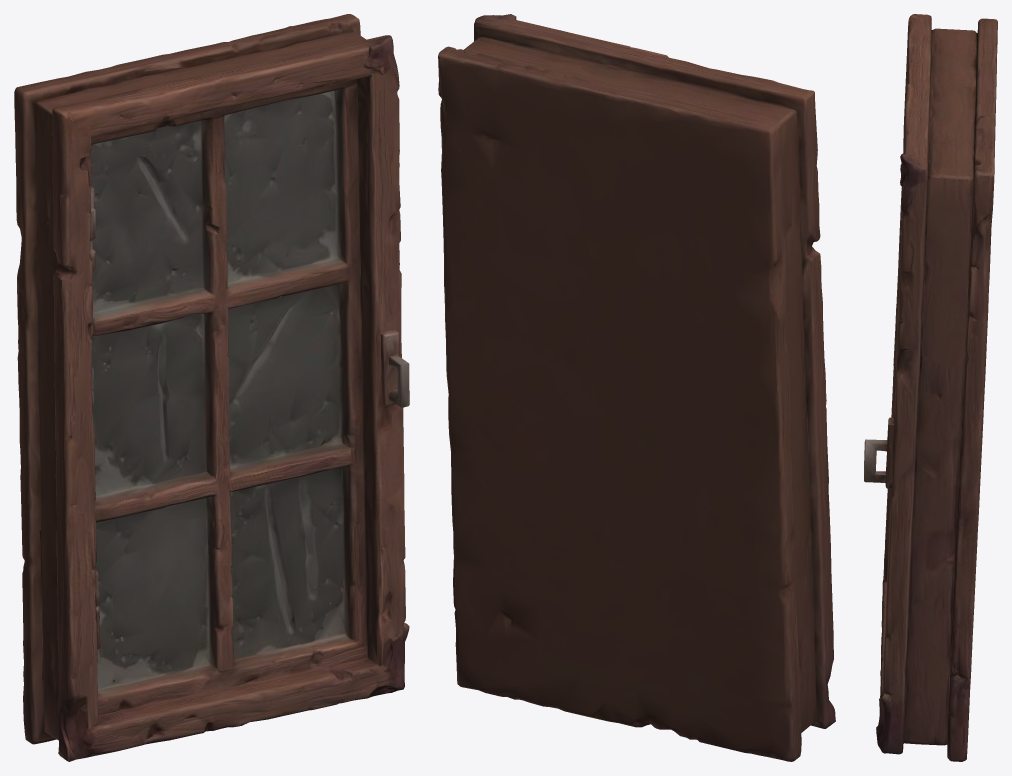
The model's file is window_basic_tseloe_idle.glb.
3 views of the same model, side by side, from view 1: azimuth 30°, elevation 25°; view 2: azimuth 150°, elevation 25°; view 3: azimuth 270°, elevation 25° (orthographic). The views are drawn at different scales.
Visible parts, largest first — view 1: tripo_node_cc51b0c7-5f73-4d6e-99b4-060140644a05; view 2: tripo_node_cc51b0c7-5f73-4d6e-99b4-060140644a05; view 3: tripo_node_cc51b0c7-5f73-4d6e-99b4-060140644a05.
Boxes of the visible parts, x1,y1,x2,y2 form: tripo_node_cc51b0c7-5f73-4d6e-99b4-060140644a05: (14, 14, 409, 761); tripo_node_cc51b0c7-5f73-4d6e-99b4-060140644a05: (438, 14, 835, 761); tripo_node_cc51b0c7-5f73-4d6e-99b4-060140644a05: (864, 14, 997, 761).
Bounding box in the file's own units: 0.5503 × 0.9998 × 0.2016.
1 material, 1 textured.
